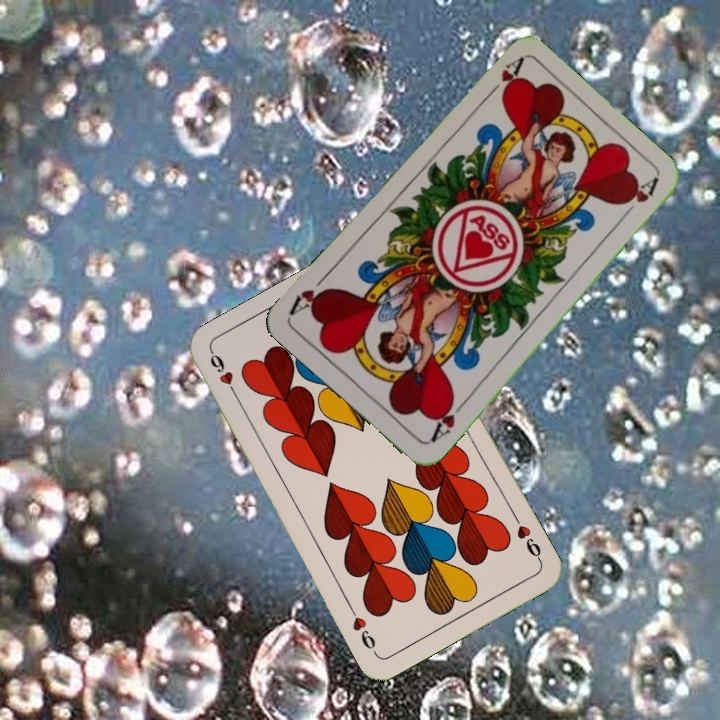H9: (205, 348, 242, 402), (509, 511, 545, 565)
HA: (426, 393, 469, 446), (480, 54, 526, 103)
